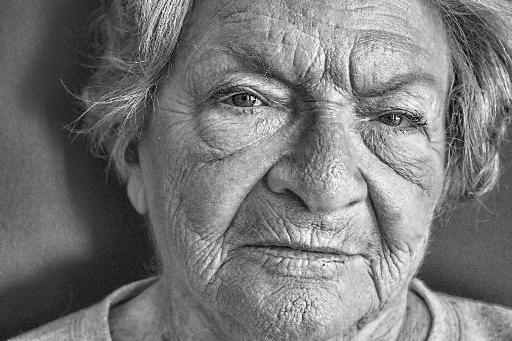left_eye: (367, 107, 428, 135)
left_lip_corner: (341, 248, 373, 267)
right_eye: (220, 91, 275, 112)
right_lip_corner: (230, 238, 265, 257)
